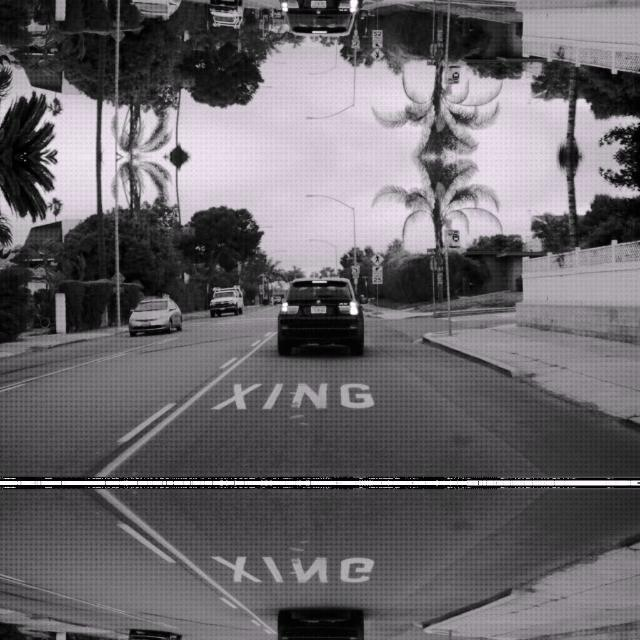pedestrianCrossing: (370, 250, 384, 264), (370, 48, 384, 62)
